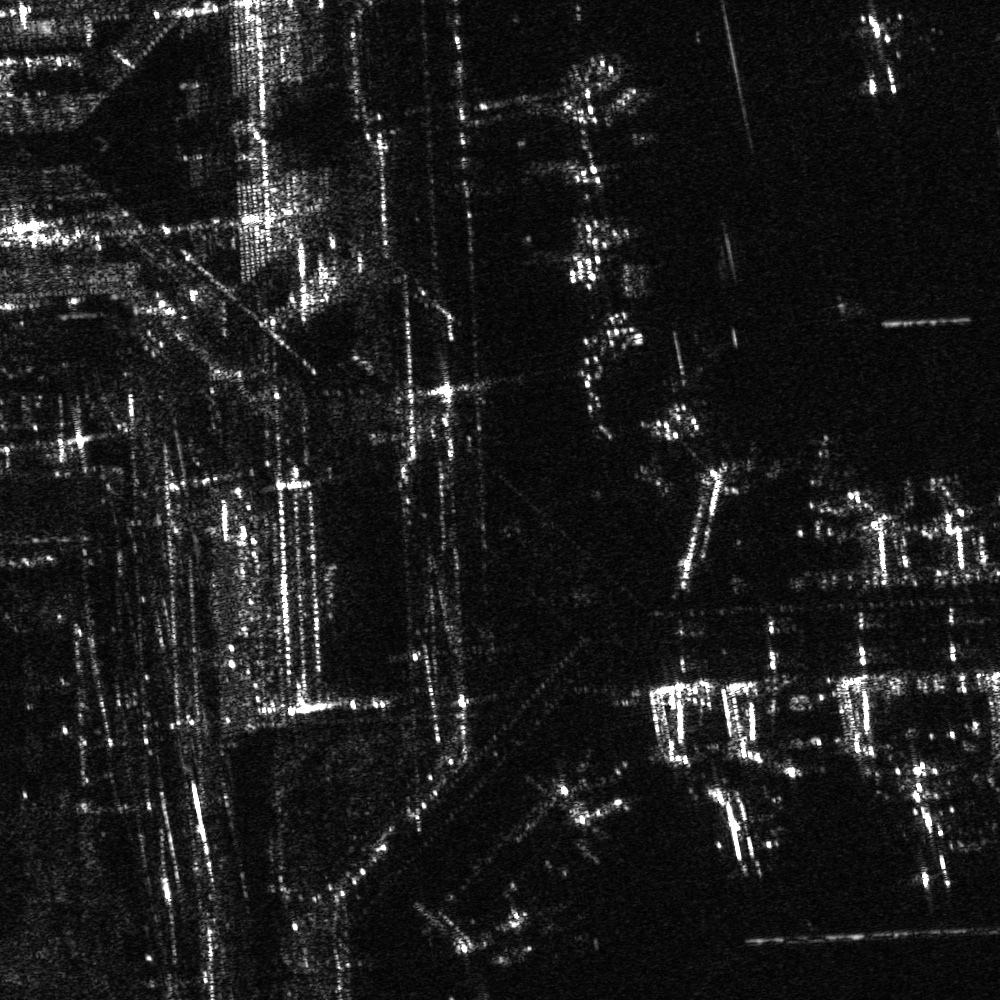A320/321: (562, 42, 676, 145)
Boeing737: (699, 770, 777, 876)
Boeing787: (895, 777, 980, 898)
